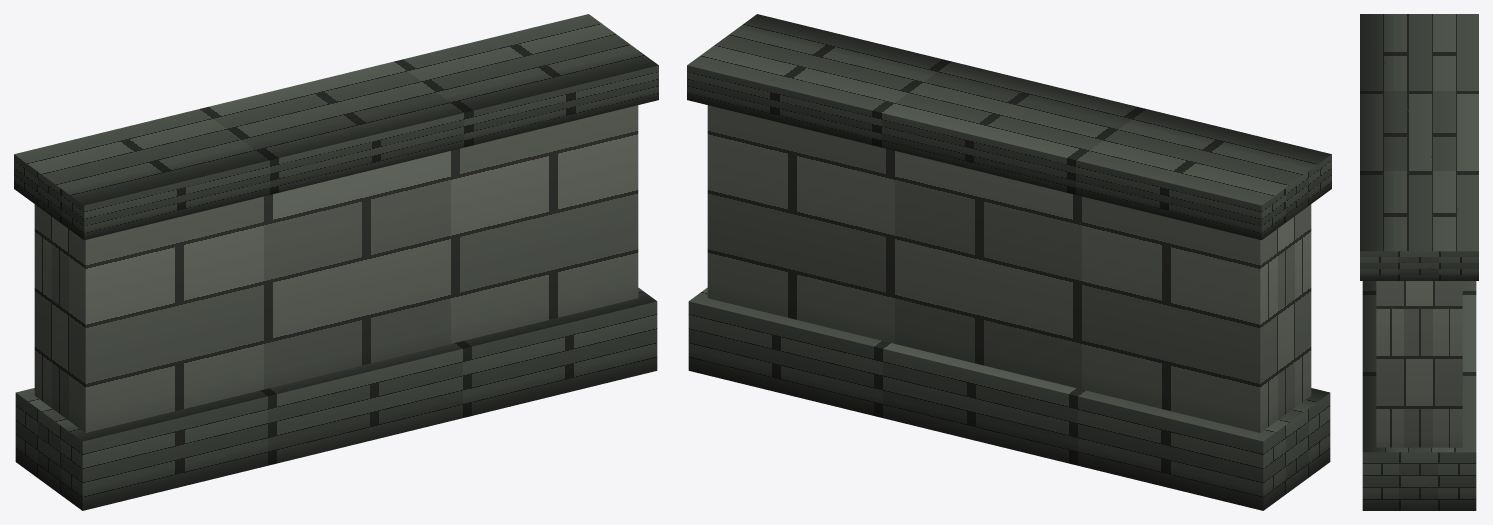
File: wall_half.gltf
The picture shows the model from 3 angles, left to right: view 1: azimuth 30°, elevation 25°; view 2: azimuth 150°, elevation 25°; view 3: azimuth 270°, elevation 25°; orthographic projection. The views are drawn at different scales.
Parts seen in each view (by area): view 1: wall_half; view 2: wall_half; view 3: wall_half.
Boxes of the visible parts, box(x1,y1,x2,y2) form: wall_half: box(14, 14, 658, 510); wall_half: box(687, 14, 1331, 510); wall_half: box(1360, 14, 1478, 510).
Bounding box in the file's own units: 1.04 × 0.53 × 0.22.
1 material, 1 textured.
